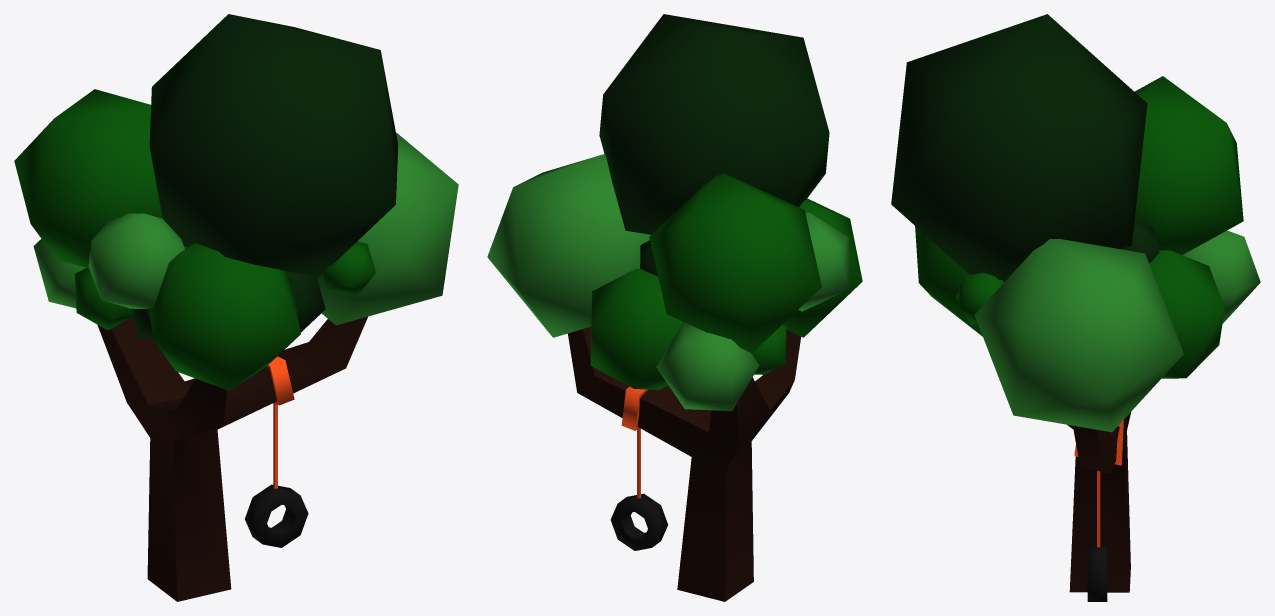
Rendered from Yard_AnyWhere_Tree_TireSwing.FBX.
3 views of the same model, side by side, from view 1: azimuth 30°, elevation 25°; view 2: azimuth 150°, elevation 25°; view 3: azimuth 270°, elevation 25° (orthographic). The views are drawn at different scales.
Visible parts, largest first — view 1: Yard_AnyWhere_Tree_TireSwing_leafBall11, Yard_AnyWhere_Tree_TireSwing_wood, Yard_AnyWhere_Tree_TireSwing_leafBall10, Yard_AnyWhere_Tree_TireSwing_leafBall02, Yard_AnyWhere_Tree_TireSwing_leafBall04, Yard_AnyWhere_Tree_TireSwing_leafBall06, Yard_AnyWhere_Tree_TireSwing_tire, Yard_AnyWhere_Tree_TireSwing_leafBall00, Yard_AnyWhere_Tree_TireSwing_leafBall09, Yard_AnyWhere_Tree_TireSwing_leafBall08, Yard_AnyWhere_Tree_TireSwing_leafBall03; view 2: Yard_AnyWhere_Tree_TireSwing_leafBall11, Yard_AnyWhere_Tree_TireSwing_wood, Yard_AnyWhere_Tree_TireSwing_leafBall10, Yard_AnyWhere_Tree_TireSwing_leafBall04, Yard_AnyWhere_Tree_TireSwing_leafBall05, Yard_AnyWhere_Tree_TireSwing_leafBall09, Yard_AnyWhere_Tree_TireSwing_leafBall06, Yard_AnyWhere_Tree_TireSwing_leafBall02, Yard_AnyWhere_Tree_TireSwing_tire, Yard_AnyWhere_Tree_TireSwing_leafBall08; view 3: Yard_AnyWhere_Tree_TireSwing_leafBall11, Yard_AnyWhere_Tree_TireSwing_leafBall04, Yard_AnyWhere_Tree_TireSwing_leafBall10, Yard_AnyWhere_Tree_TireSwing_wood, Yard_AnyWhere_Tree_TireSwing_leafBall05, Yard_AnyWhere_Tree_TireSwing_leafBall09, Yard_AnyWhere_Tree_TireSwing_leafBall02, Yard_AnyWhere_Tree_TireSwing_leafBall00, Yard_AnyWhere_Tree_TireSwing_tire, Yard_AnyWhere_Tree_TireSwing_leafBall01.
Part boxes in pixels (<box>): Yard_AnyWhere_Tree_TireSwing_leafBall11: <box>149,14,398,277</box>; Yard_AnyWhere_Tree_TireSwing_wood: <box>97,316,367,601</box>; Yard_AnyWhere_Tree_TireSwing_leafBall10: <box>14,89,162,268</box>; Yard_AnyWhere_Tree_TireSwing_leafBall02: <box>148,243,300,390</box>; Yard_AnyWhere_Tree_TireSwing_leafBall04: <box>317,132,458,325</box>; Yard_AnyWhere_Tree_TireSwing_leafBall06: <box>88,213,184,308</box>; Yard_AnyWhere_Tree_TireSwing_tire: <box>245,484,308,547</box>; Yard_AnyWhere_Tree_TireSwing_leafBall00: <box>320,241,375,296</box>; Yard_AnyWhere_Tree_TireSwing_leafBall09: <box>33,239,85,308</box>; Yard_AnyWhere_Tree_TireSwing_leafBall08: <box>75,268,133,330</box>; Yard_AnyWhere_Tree_TireSwing_leafBall03: <box>285,271,325,332</box>; Yard_AnyWhere_Tree_TireSwing_leafBall11: <box>599,14,829,234</box>; Yard_AnyWhere_Tree_TireSwing_wood: <box>568,326,800,601</box>; Yard_AnyWhere_Tree_TireSwing_leafBall10: <box>649,173,821,353</box>; Yard_AnyWhere_Tree_TireSwing_leafBall04: <box>487,154,650,337</box>; Yard_AnyWhere_Tree_TireSwing_leafBall05: <box>590,268,682,389</box>; Yard_AnyWhere_Tree_TireSwing_leafBall09: <box>656,322,759,411</box>; Yard_AnyWhere_Tree_TireSwing_leafBall06: <box>798,212,849,311</box>; Yard_AnyWhere_Tree_TireSwing_leafBall02: <box>782,198,862,337</box>; Yard_AnyWhere_Tree_TireSwing_tire: <box>610,493,667,550</box>; Yard_AnyWhere_Tree_TireSwing_leafBall08: <box>751,324,786,374</box>; Yard_AnyWhere_Tree_TireSwing_leafBall11: <box>891,14,1147,282</box>; Yard_AnyWhere_Tree_TireSwing_leafBall04: <box>974,239,1183,432</box>; Yard_AnyWhere_Tree_TireSwing_leafBall10: <box>1134,76,1243,254</box>; Yard_AnyWhere_Tree_TireSwing_wood: <box>1067,412,1130,592</box>; Yard_AnyWhere_Tree_TireSwing_leafBall05: <box>1149,250,1224,378</box>; Yard_AnyWhere_Tree_TireSwing_leafBall09: <box>1182,230,1260,323</box>; Yard_AnyWhere_Tree_TireSwing_leafBall02: <box>915,226,982,336</box>; Yard_AnyWhere_Tree_TireSwing_leafBall00: <box>956,272,1003,324</box>; Yard_AnyWhere_Tree_TireSwing_tire: <box>1087,545,1107,601</box>; Yard_AnyWhere_Tree_TireSwing_leafBall01: <box>1121,220,1159,263</box>.
Size of the model in its own units: 1245 by 1810 by 1061.
